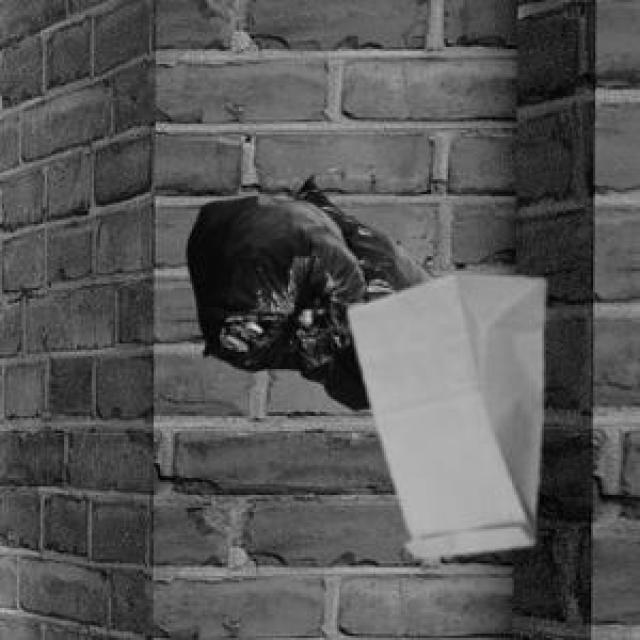miscellaneous trash: (184, 192, 431, 386), (290, 171, 367, 405)
paper: (344, 269, 542, 553)
